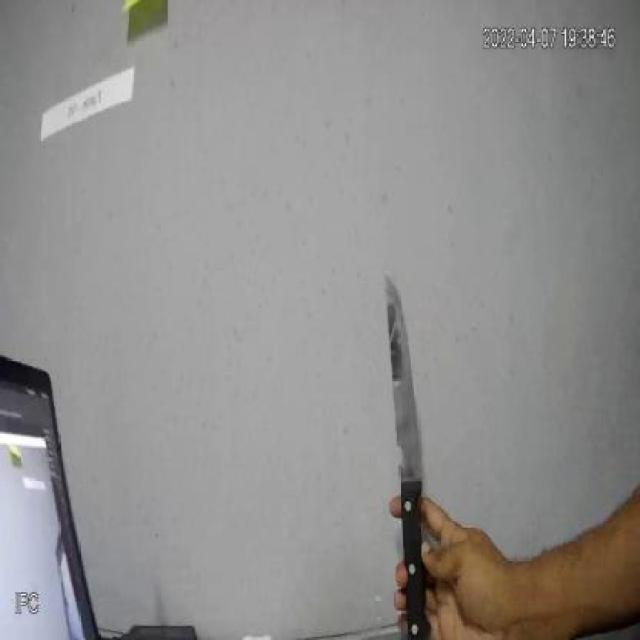Knife: (366, 263, 452, 622)
